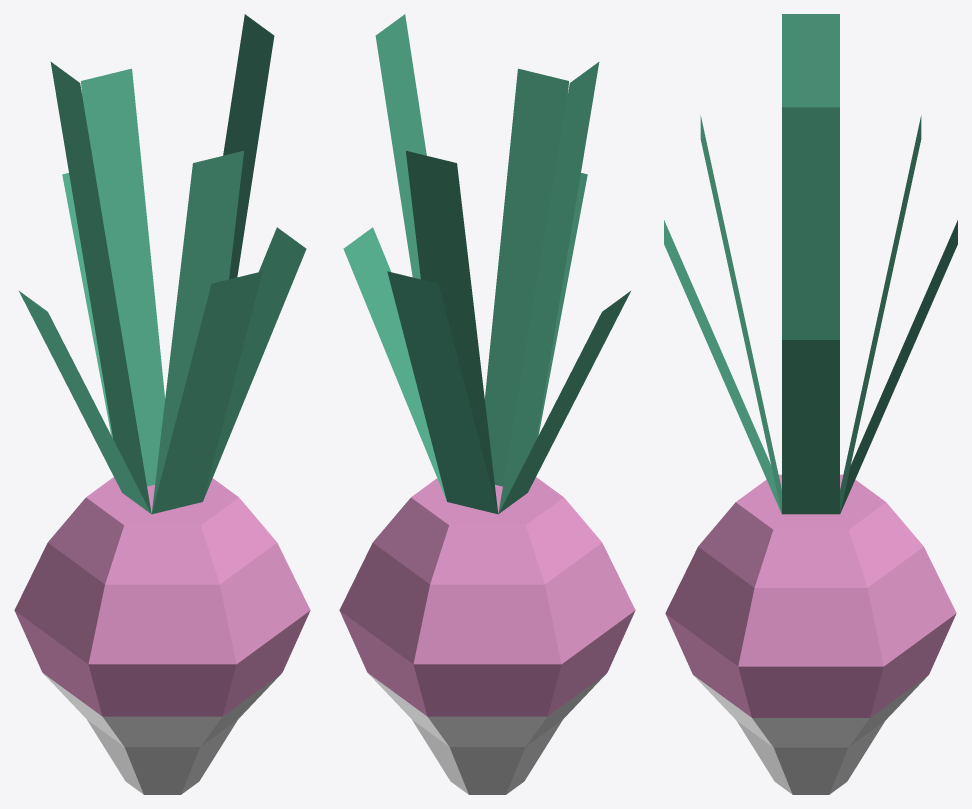
Rendered from beet.fbx.
The picture shows the model from 3 angles, left to right: view 1: azimuth 30°, elevation 25°; view 2: azimuth 150°, elevation 25°; view 3: azimuth 270°, elevation 25°; orthographic projection.
Visible parts, largest first — view 1: beet; view 2: beet; view 3: beet.
Part boxes in pixels (x1,y1,x2,y2): beet: [14, 14, 310, 794]; beet: [339, 14, 635, 794]; beet: [664, 14, 957, 794].
Bounding box in the file's own units: 0.9798 × 2.65 × 0.9798.
